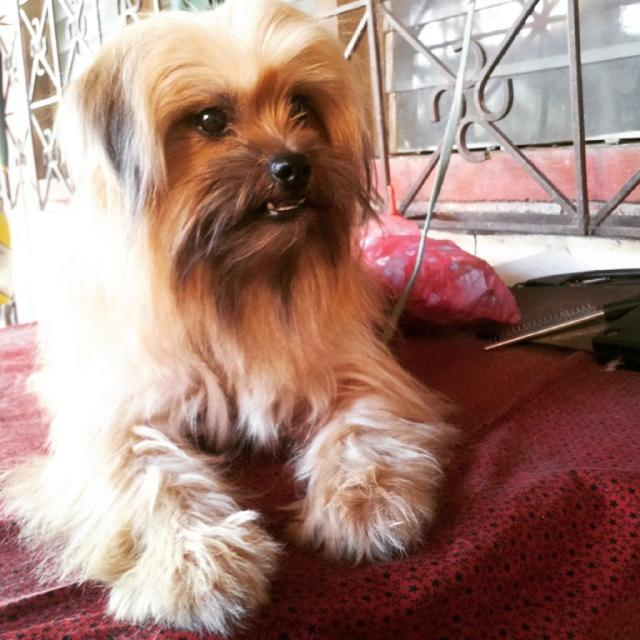Dog: (0, 0, 462, 638)
